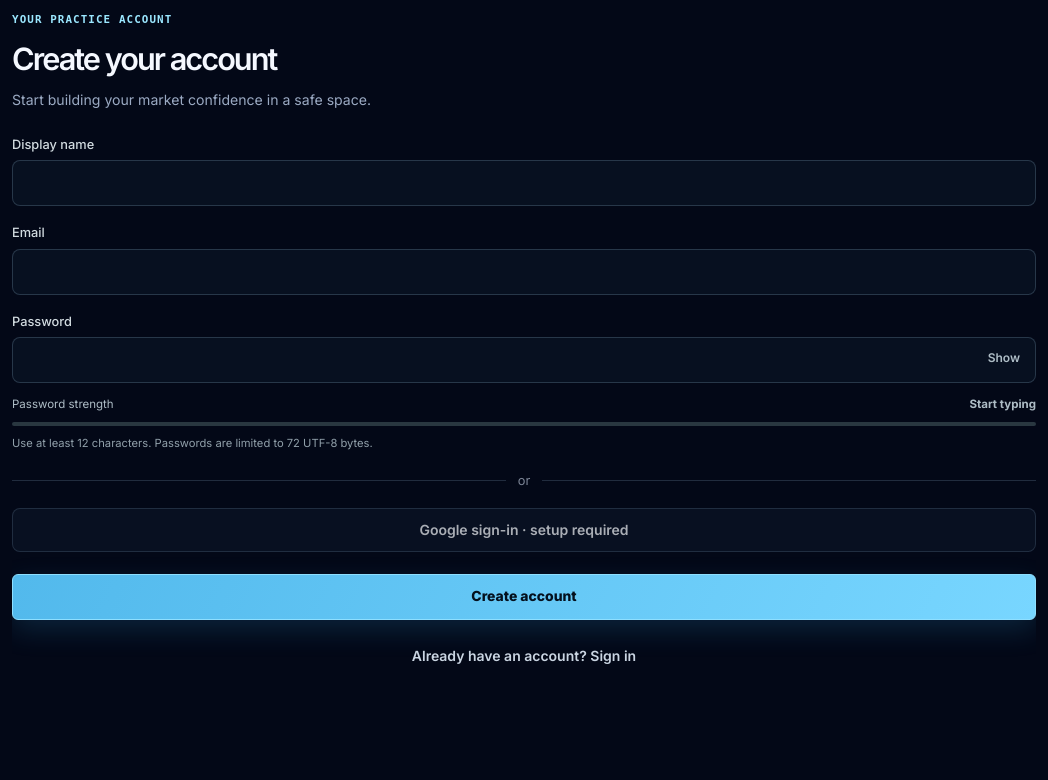
Test case: AuthForm › offers strength guidance during registration without blocking the schema-valid password
Type "just-a-few" into the password field labelled "Password".
click(524, 360); type("just-a-few")  # box [12, 337, 1036, 383]
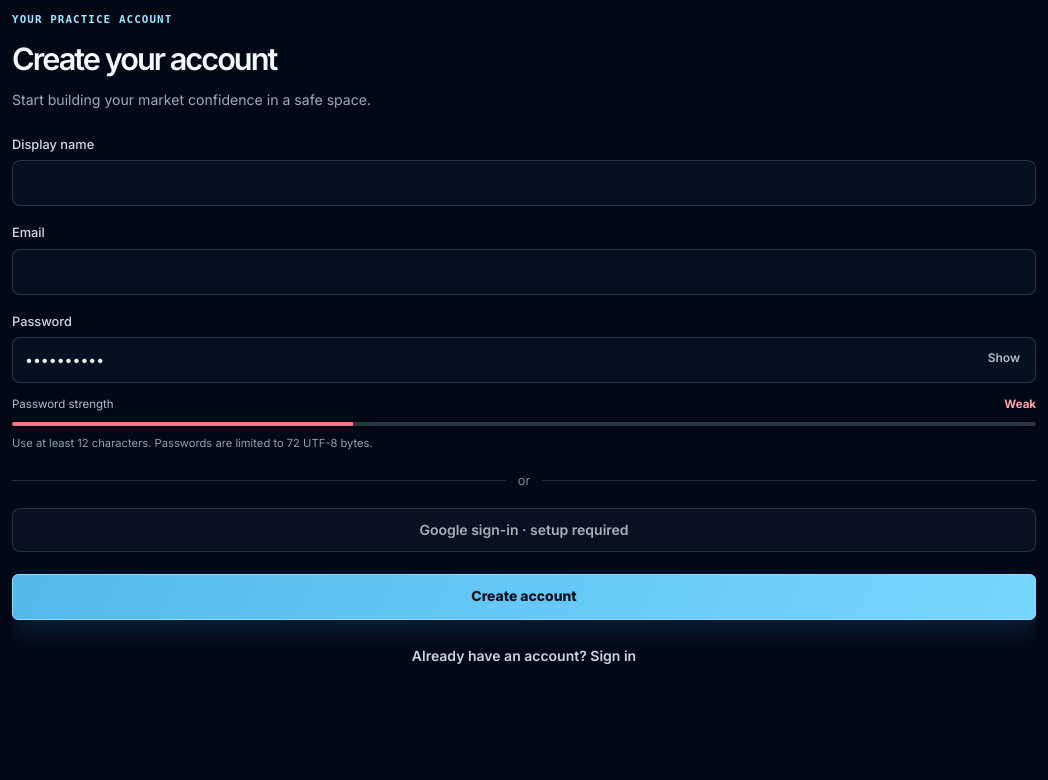
Expected: the text "Weak" is shown, [1004, 396, 1036, 413]
Type "valid-password" into the password field labelled "Password".
click(524, 360); type("valid-password")  # box [12, 337, 1036, 383]
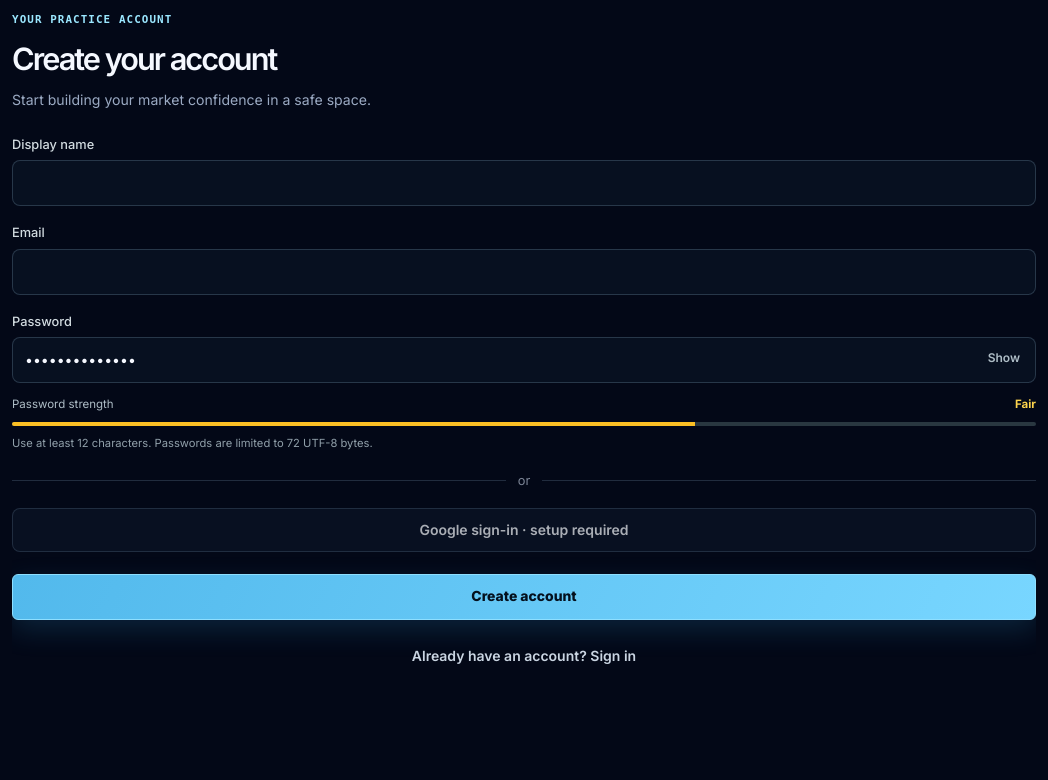
Expected: the text "72 UTF-8 bytes" is shown, [12, 436, 373, 450]
Expected: the text "Fair" is shown, [1015, 396, 1036, 413]
